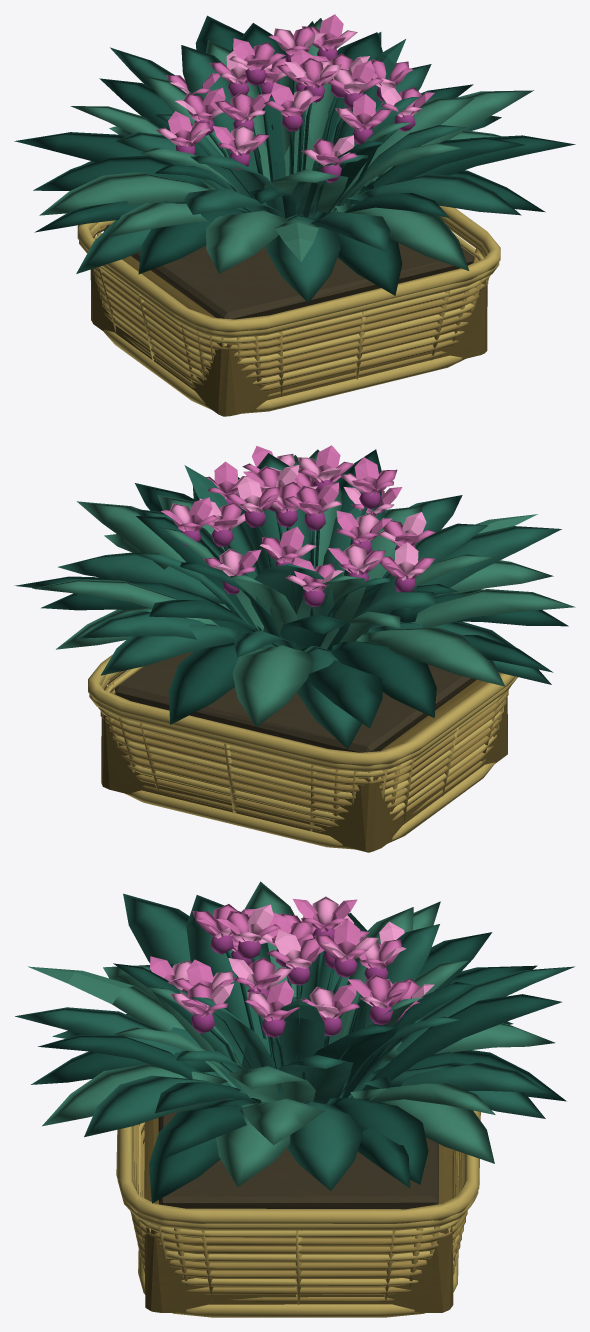
The model's file is 02_Flower_Basket_LOD1.fbx.
The picture shows the model from 3 angles, top to bottom: view 1: azimuth 30°, elevation 25°; view 2: azimuth 150°, elevation 25°; view 3: azimuth 270°, elevation 25°; orthographic projection. The views are drawn at different scales.
Visible parts, largest first — view 1: 02_Flower_Basket_LOD1_Mesh; view 2: 02_Flower_Basket_LOD1_Mesh; view 3: 02_Flower_Basket_LOD1_Mesh.
Boxes of the visible parts, x1,y1,x2,y2 form: 02_Flower_Basket_LOD1_Mesh: (14,14,575,416); 02_Flower_Basket_LOD1_Mesh: (14,445,575,852); 02_Flower_Basket_LOD1_Mesh: (15,881,574,1317).
Size of the model in its own units: 31.24 by 17.98 by 27.82.
Materials: 1 (1 with a texture image).
